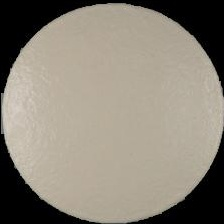55154-3877: (0, 0, 224, 224)
